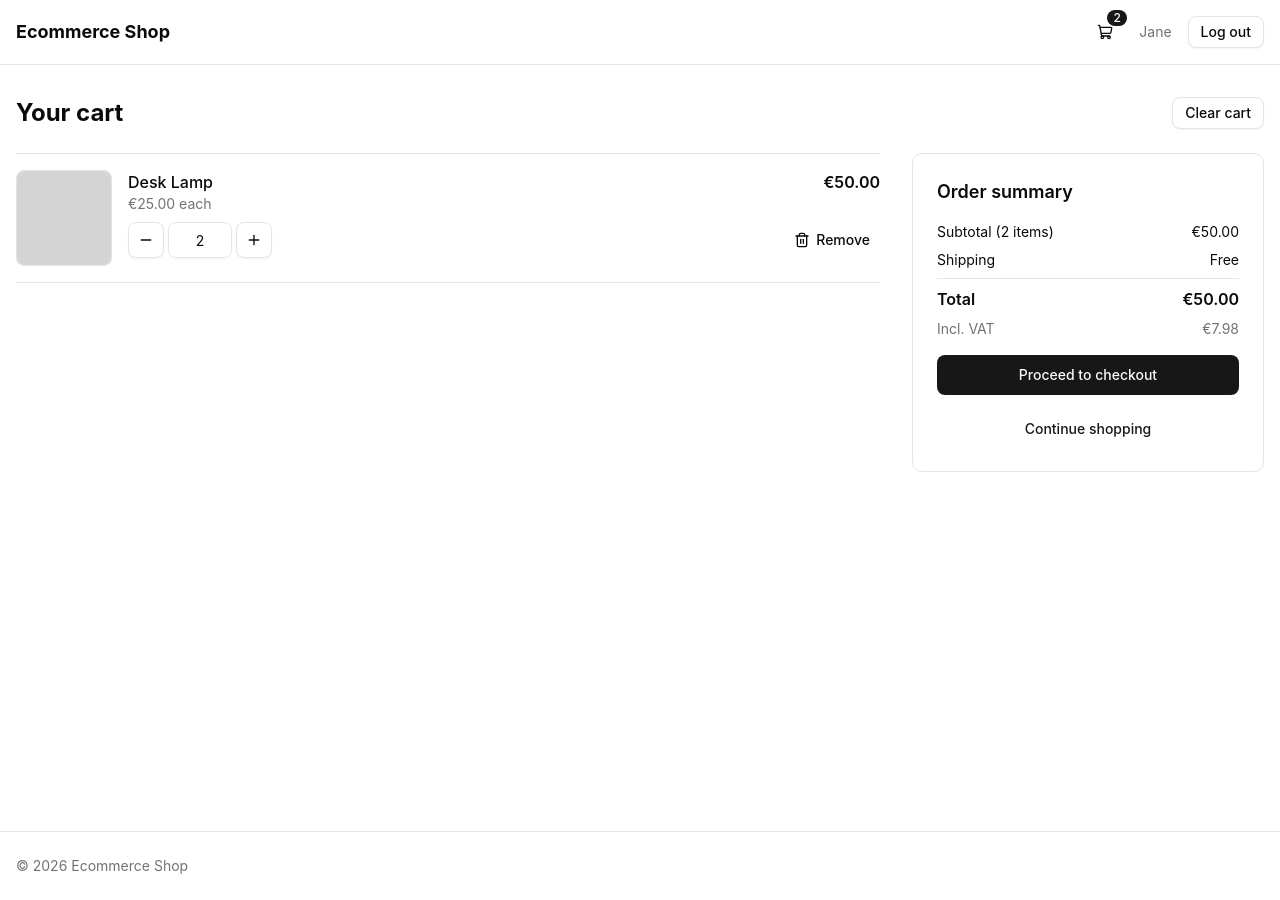
Test: cart page › changes the quantity and shows the totals the server sends back
Click the button named "Increase quantity of desk lamp" at (254, 240), box [236, 222, 272, 258]
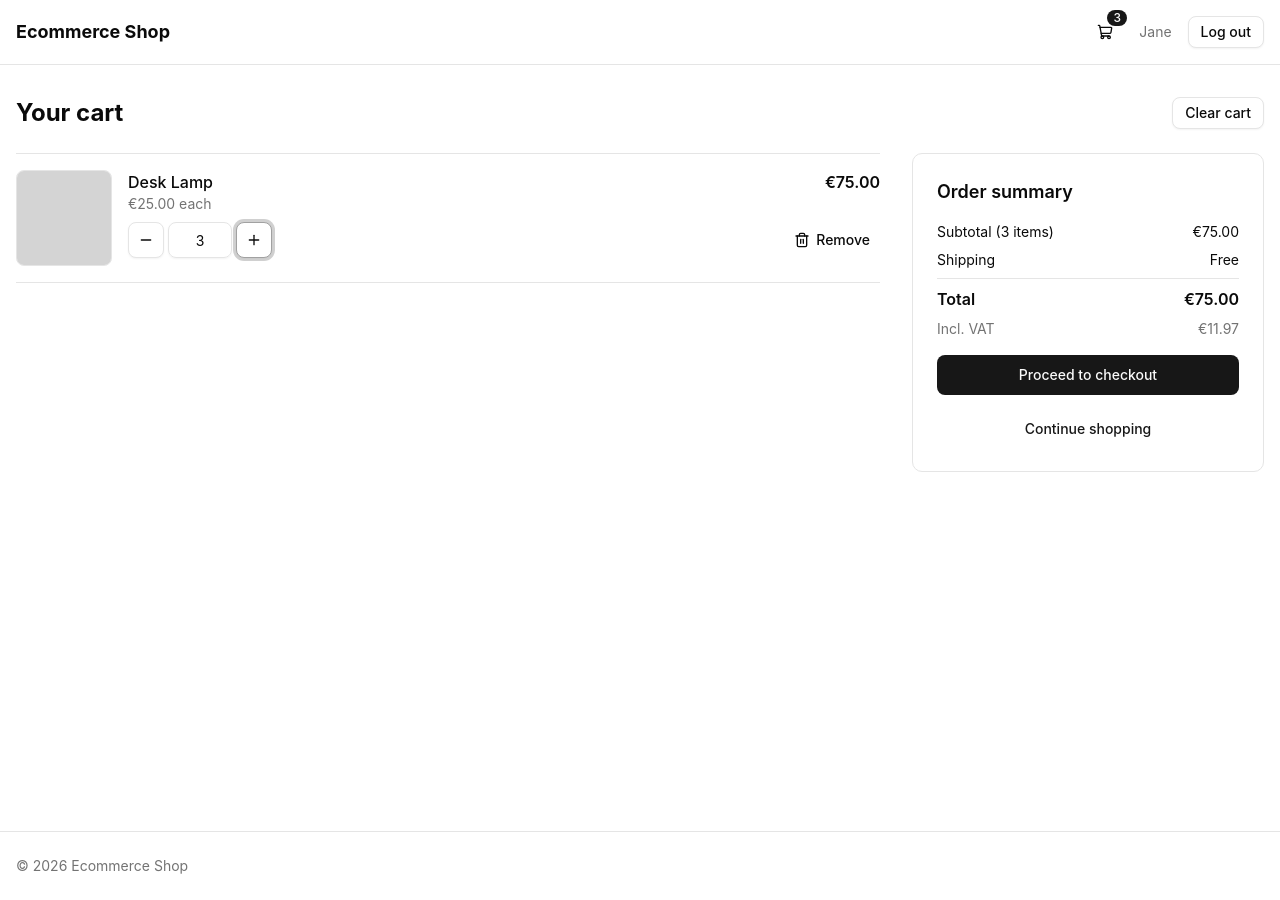
expect the text "Subtotal (3 items)" is shown: met, box [937, 222, 1054, 242]
expect the link named "Cart, 3 items" is shown: met, box [1097, 10, 1127, 40]
